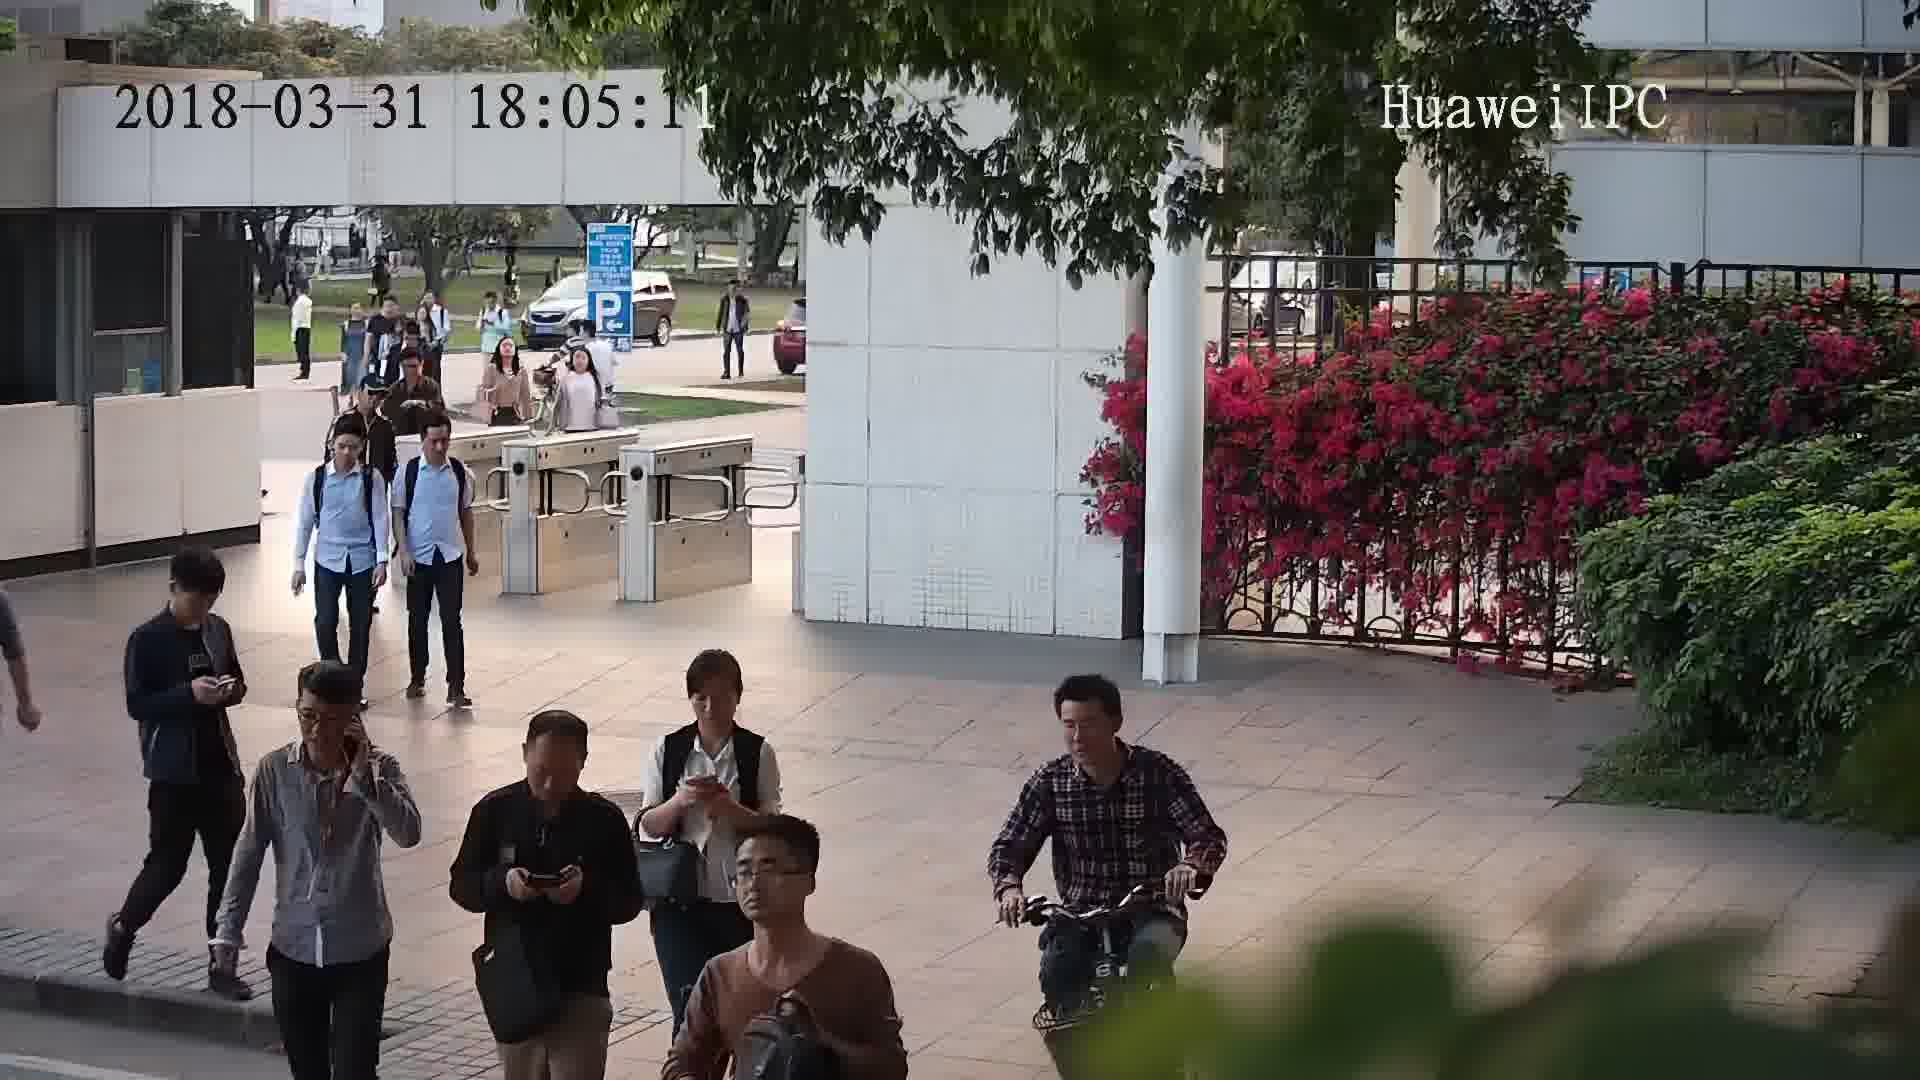face: (725, 835, 812, 922), (520, 731, 590, 800), (1052, 696, 1121, 765), (292, 688, 360, 756), (682, 667, 745, 731), (418, 425, 454, 468)
person: (693, 815, 887, 1004), (1025, 673, 1189, 802), (251, 660, 398, 790), (473, 708, 627, 833), (650, 647, 779, 773), (123, 547, 241, 657), (306, 414, 386, 491), (397, 414, 470, 487), (339, 376, 392, 435), (384, 346, 438, 396), (485, 332, 528, 383), (558, 341, 602, 388), (371, 295, 401, 334), (421, 286, 449, 318), (289, 275, 315, 309), (480, 287, 505, 318), (722, 273, 748, 301)
